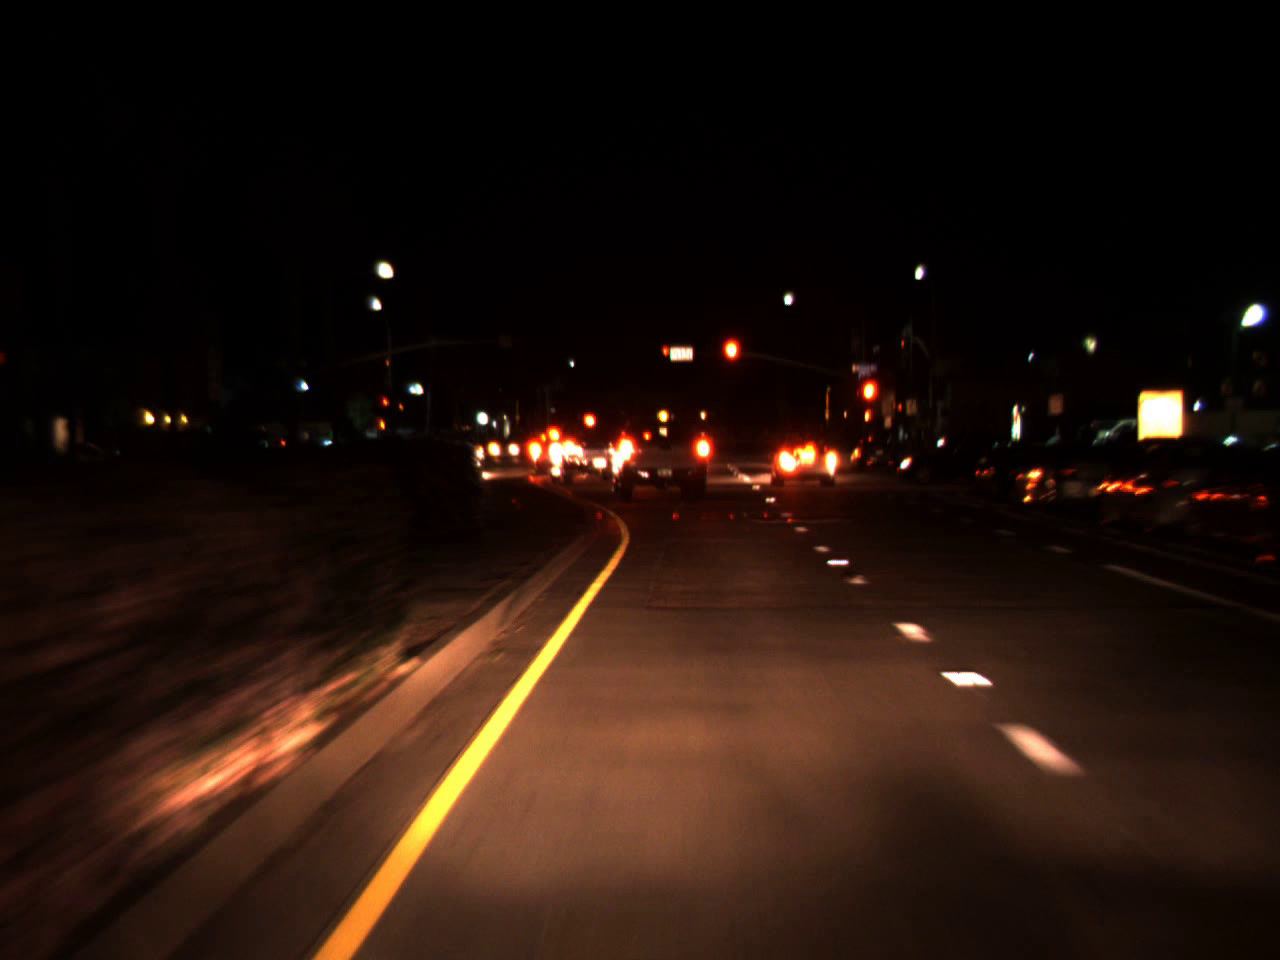stop: (720, 335, 744, 389), (858, 376, 882, 430), (661, 344, 671, 368), (381, 396, 388, 414)
